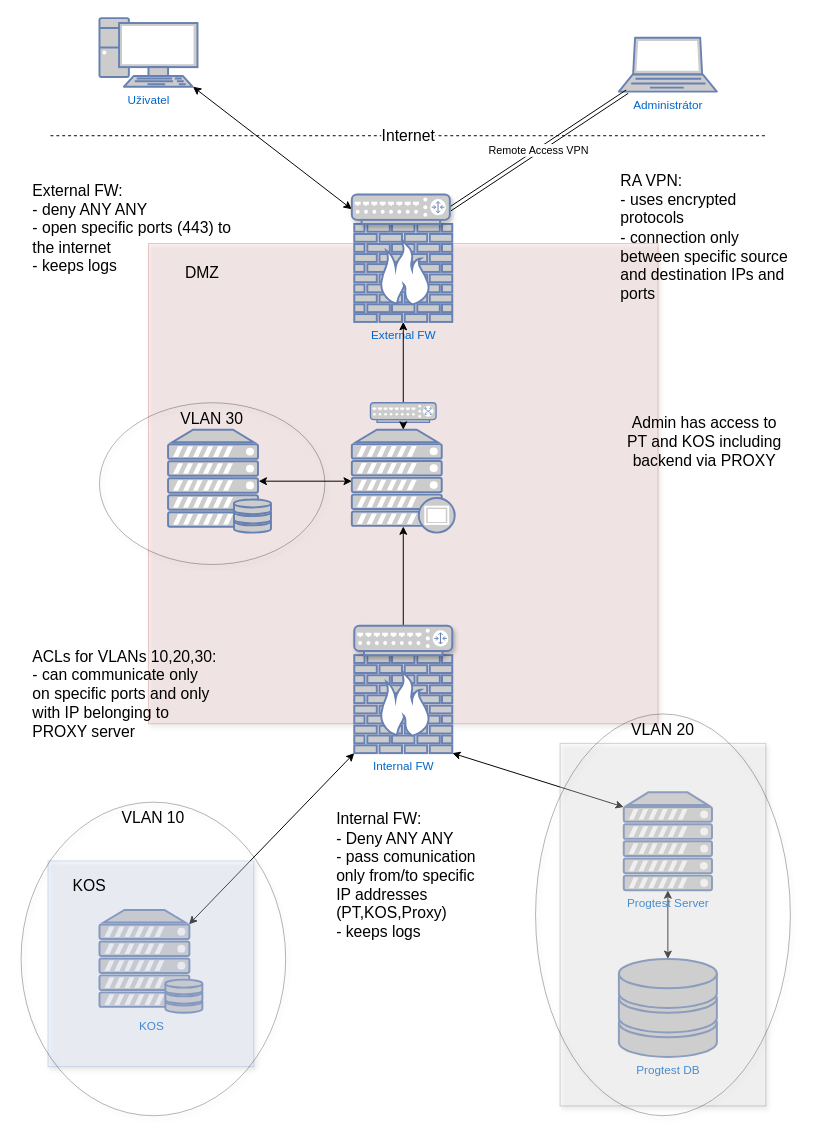
Image size: 818x1140. Some labels were removed from this diagram. Each missing label, with the centre of its shape:
ADFS: point 219,480
DMZ Switch: point 403,412
External Router: point 401,210
Internal Router: point 404,641
Progtest: point 663,925
PROXY Apache server: point 402,480
